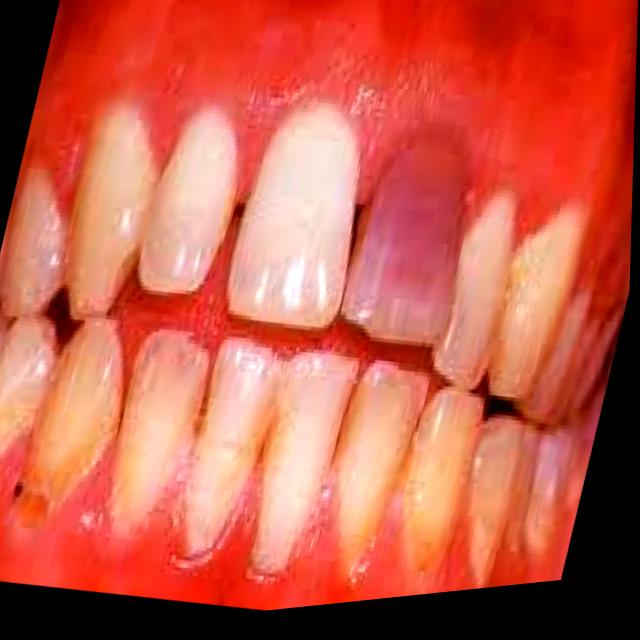tooth-discoloration: (341, 133, 463, 343)
